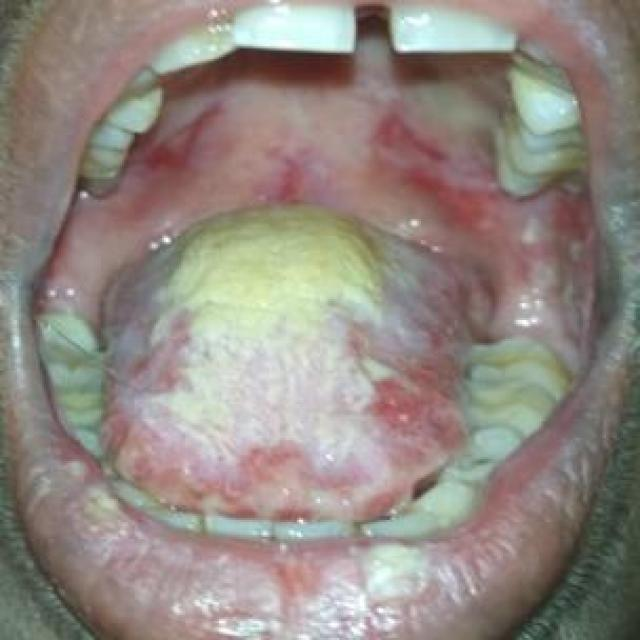leukoplakia-like-detection: (113, 206, 450, 516)
processing_area: (38, 38, 589, 518)
